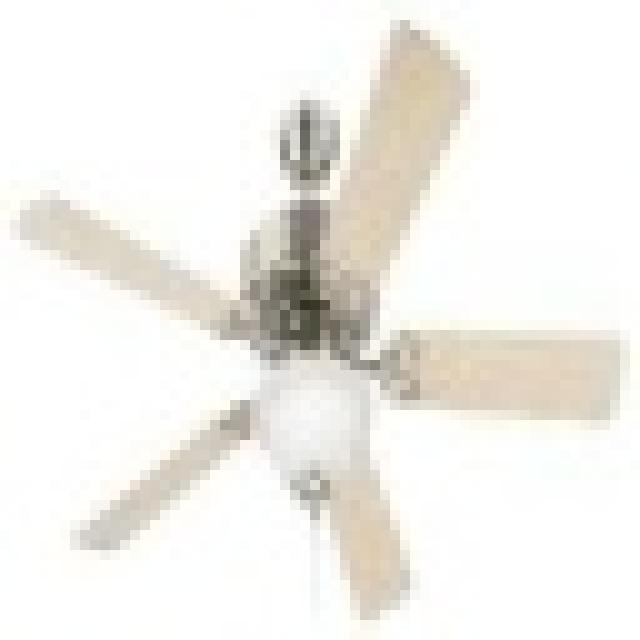Bulb: (19, 69, 634, 596)
